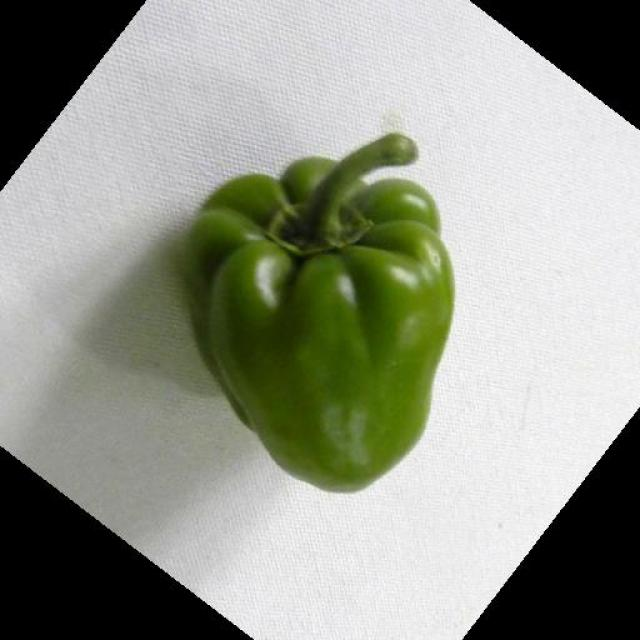Fresh_Capsicum: (167, 149, 473, 493)
